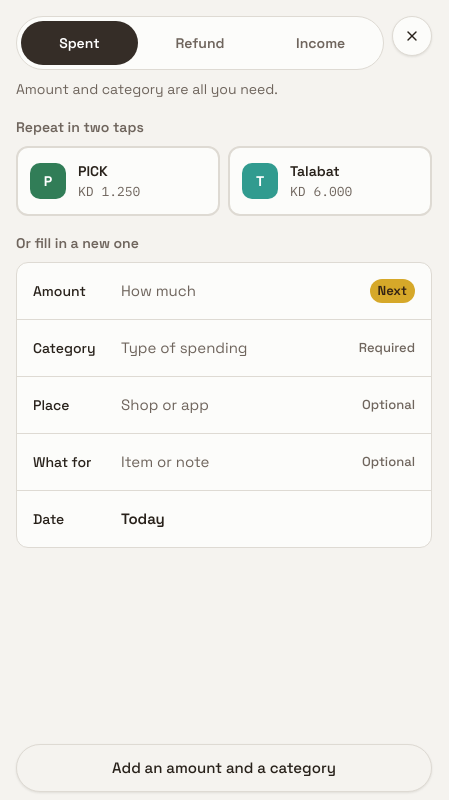
Test: /log never overwrites her choices (MOB-R73 E2) › her category survives a tile tap
Expected: the button "P PICK KD 1.250" is shown, [16, 146, 220, 216]
What coordinates should you click on to do the following:
click the button "Category Type of spending Required"
I would click on:
 (224, 348)
Its box is [17, 320, 431, 376].
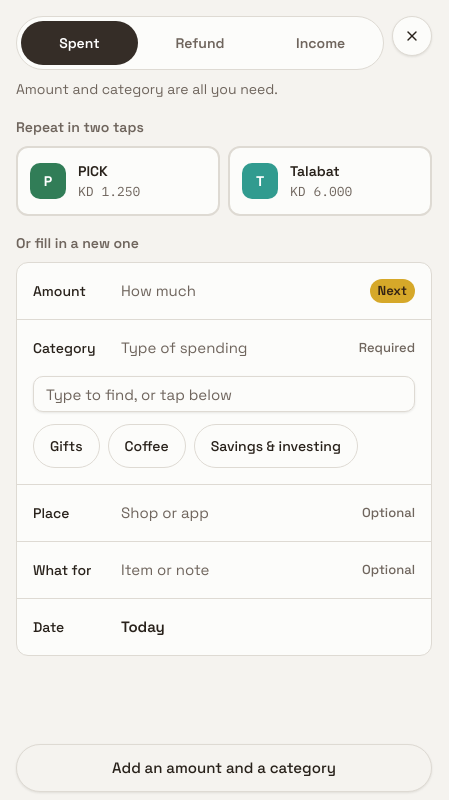
What coordinates should you click on to do the following:
click the button "Gifts"
I would click on:
 (66, 446)
Its box is [33, 424, 100, 468].
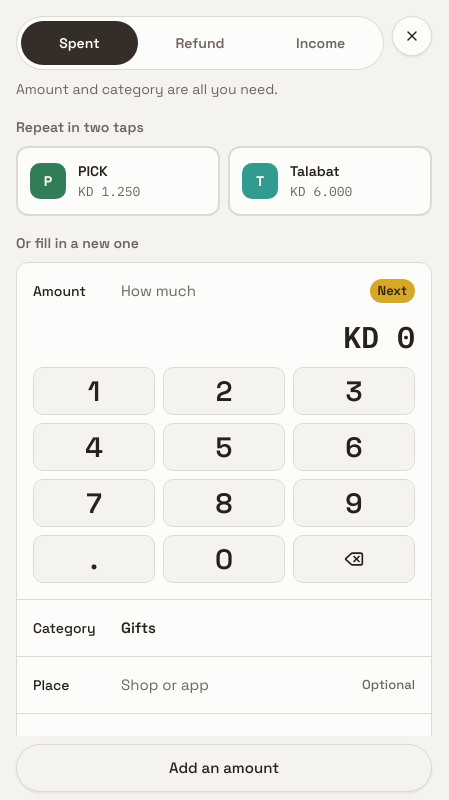
What coordinates should you click on to do the following:
click the button "P PICK KD 1.250"
I would click on:
 (118, 181)
Its box is [16, 146, 220, 216].
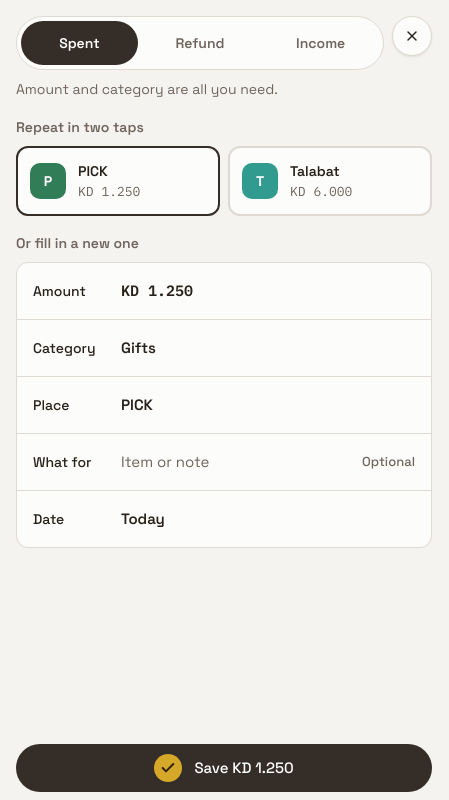
Result: the button "Category Gifts" is shown at [17, 320, 431, 376]
Result: the button "Place PICK" is shown at [17, 377, 431, 433]
